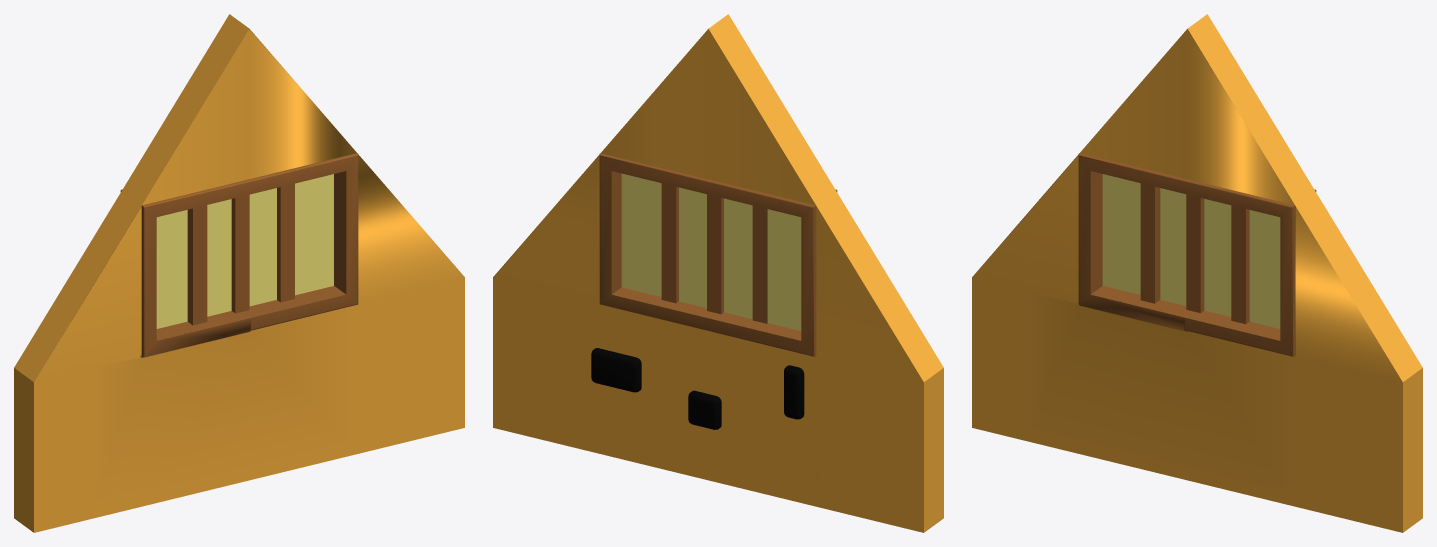
File: Wall Up 8.fbx
The picture shows the model from 3 angles, left to right: view 1: azimuth 30°, elevation 25°; view 2: azimuth 150°, elevation 25°; view 3: azimuth 330°, elevation 25°; orthographic projection.
Parts seen in each view (by area): view 1: Wall Up 8; view 2: Wall Up 8; view 3: Wall Up 8.
Part boxes in pixels (left/top/right/bottom): Wall Up 8: left=14, top=14, right=464, bottom=532; Wall Up 8: left=493, top=14, right=943, bottom=532; Wall Up 8: left=972, top=14, right=1422, bottom=532.
Bounding box in the file's own units: 249 × 249 × 26.
1 material, 1 textured.
